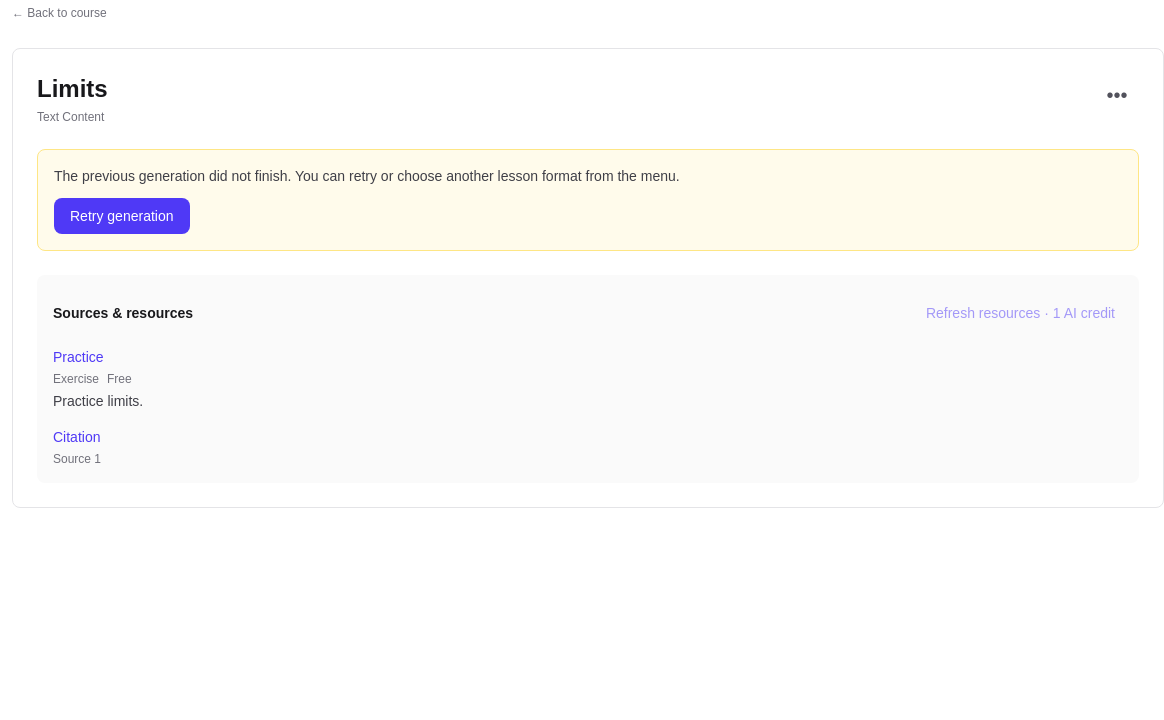
Test case: lesson actions and resource refresh › keeps recovery controls available for an empty failed text lesson
Click the button named "Lesson actions" at (1117, 95), box [1095,73,1139,117]
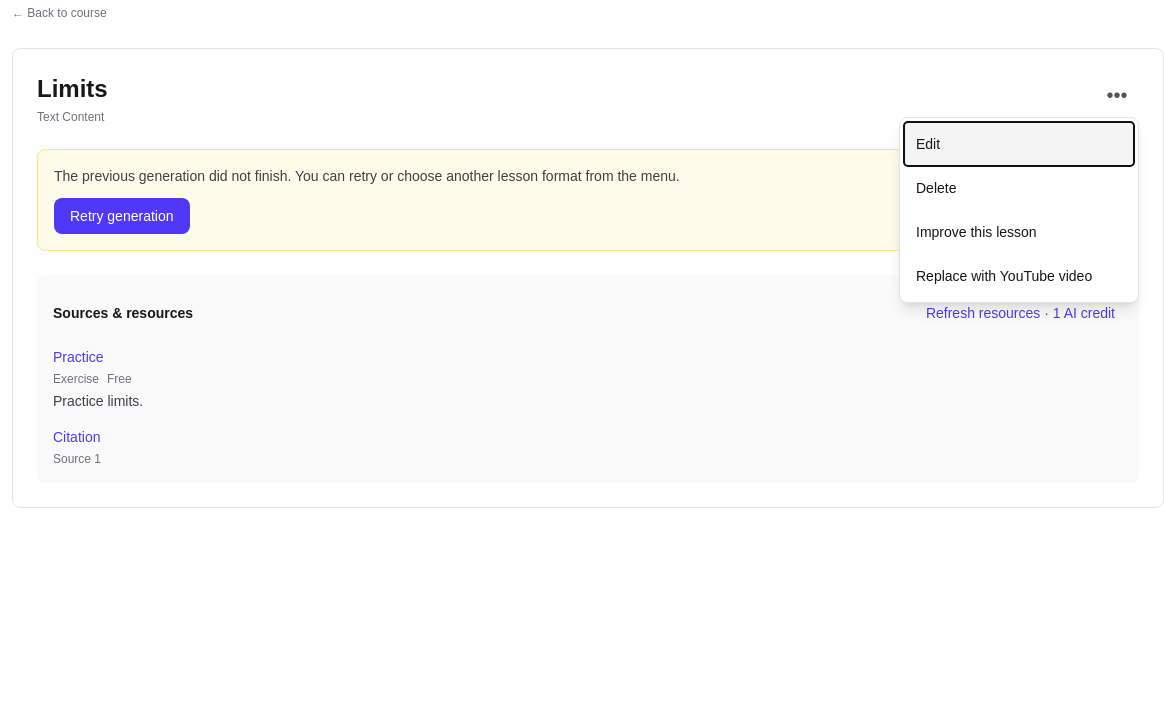
Expected: the menu item "Replace with YouTube video" is shown, [904,254,1134,298]
Click the button "Retry generation" at (122, 216), box [54,198,190,234]
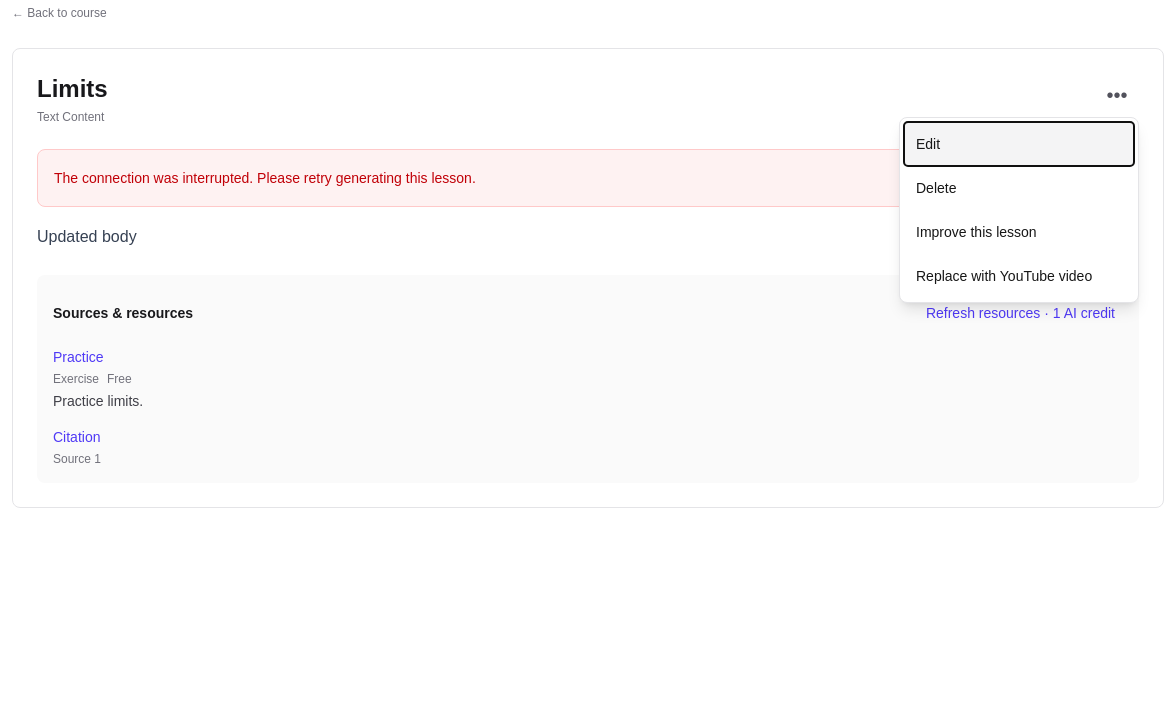
Expected: the text "Updated body" is shown, [37,228,137,245]
